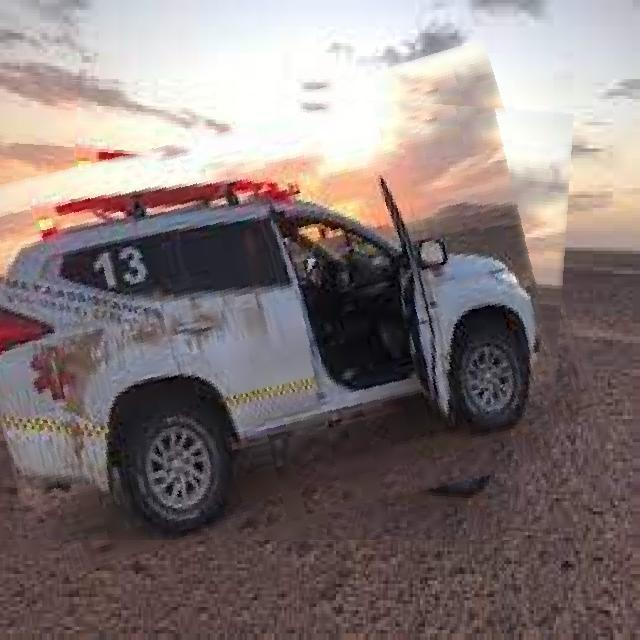ambulance: (0, 75, 574, 540)
